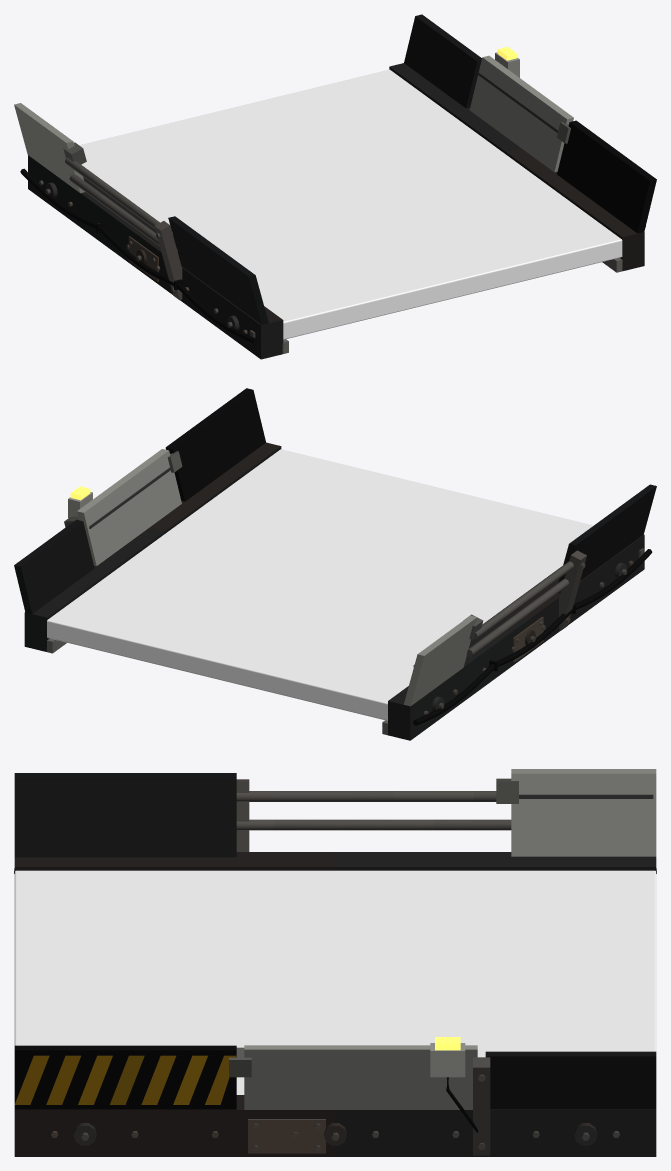
Rendered from conveyor_straight.glb.
3 views of the same model, one above another, from view 1: azimuth 30°, elevation 25°; view 2: azimuth 150°, elevation 25°; view 3: azimuth 270°, elevation 25° (orthographic). The views are drawn at different scales.
Visible parts, largest first — view 1: Belt, Frame; view 2: Belt, Frame; view 3: Frame, Belt.
Part boxes in pixels (bbox=[...]): Belt: bbox=[79, 69, 622, 339]; Frame: bbox=[14, 14, 656, 359]; Belt: bbox=[47, 449, 593, 720]; Frame: bbox=[14, 388, 656, 740]; Frame: bbox=[14, 769, 656, 1156]; Belt: bbox=[14, 870, 656, 1094].
Size of the model in its own units: 2.14 by 0.4475 by 2.
